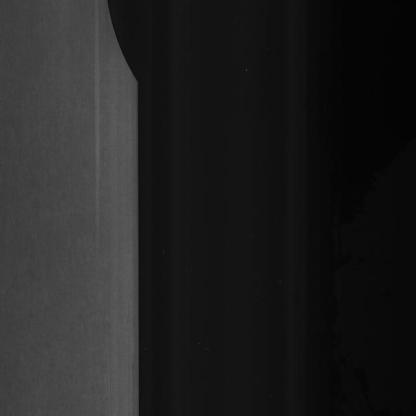crescent_gap: (96, 0, 154, 89)
